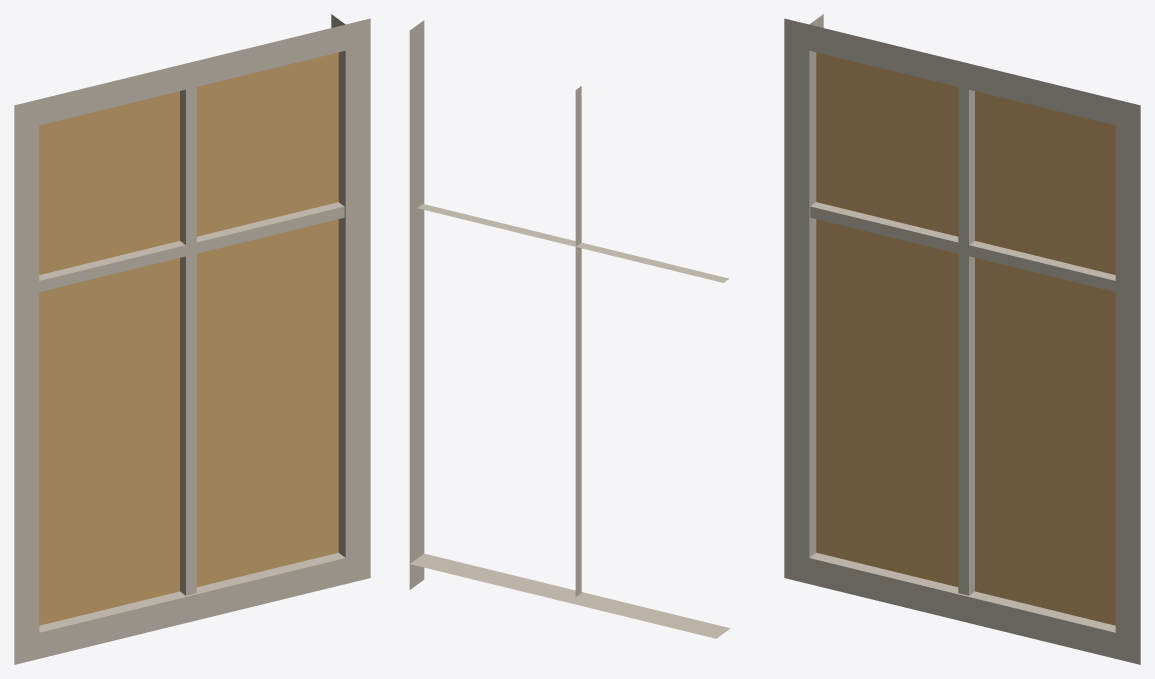
File: window-lit.glb
3 views of the same model, side by side, from view 1: azimuth 30°, elevation 25°; view 2: azimuth 150°, elevation 25°; view 3: azimuth 330°, elevation 25° (orthographic).
Bounding box in the file's own units: 1 × 1.5 × 0.07.
